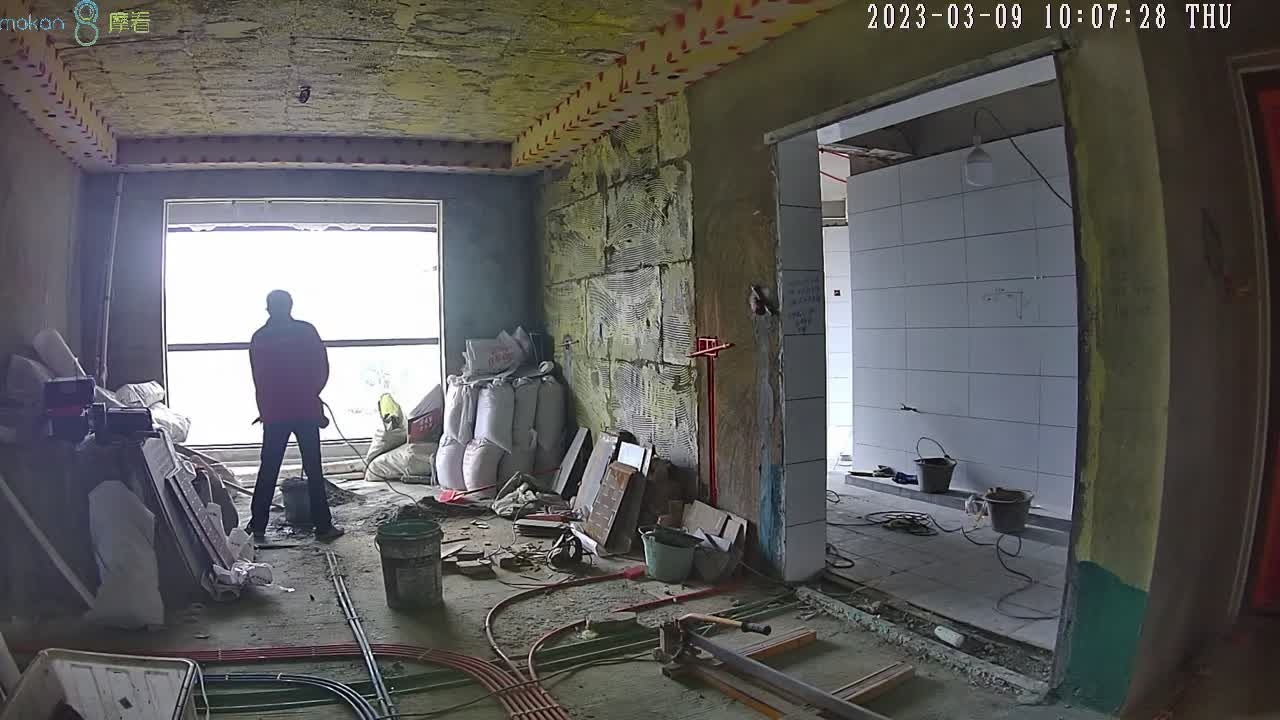people: (250, 289, 348, 543)
window: (166, 209, 445, 448)
